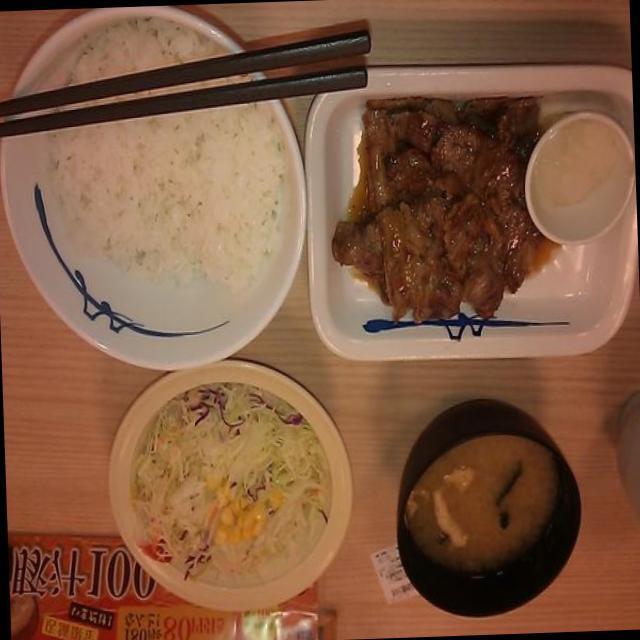Rice: (56, 42, 291, 320)
